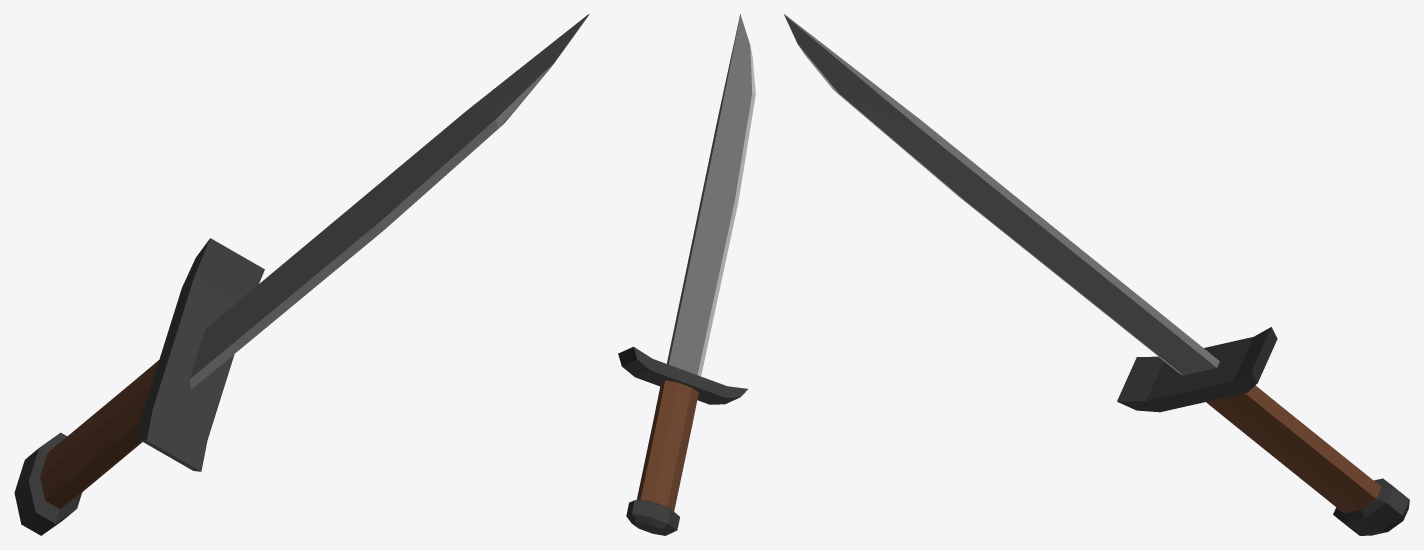
Rendered from sword.glb.
The picture shows the model from 3 angles, left to right: view 1: azimuth 30°, elevation 25°; view 2: azimuth 150°, elevation 25°; view 3: azimuth 270°, elevation 25°; orthographic projection. The views are drawn at different scales.
Visible parts, largest first — view 1: Cube.001; view 2: Cube.001; view 3: Cube.001.
Part boxes in pixels (left/top/right/bottom): Cube.001: left=14, top=14, right=589, bottom=535; Cube.001: left=618, top=14, right=755, bottom=535; Cube.001: left=784, top=14, right=1409, bottom=535.
Size of the model in its own units: 188 by 564 by 536.
